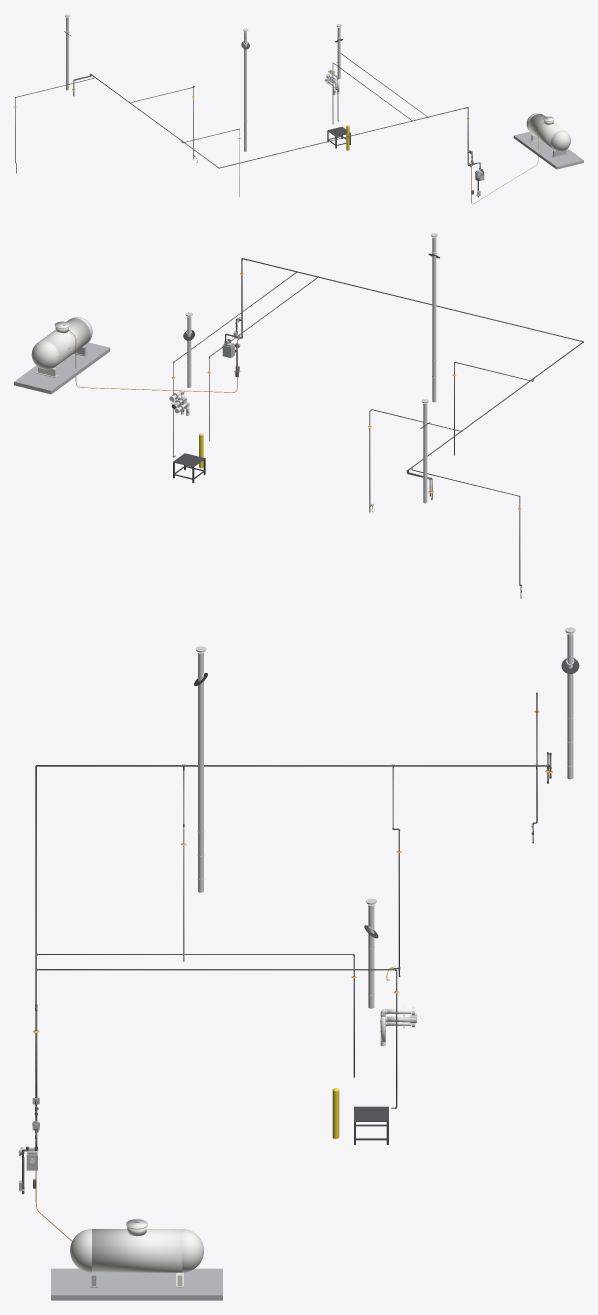
Rendered from slab_pipes_gas.glb.
3 views of the same model, one above another, from view 1: azimuth 30°, elevation 25°; view 2: azimuth 150°, elevation 25°; view 3: azimuth 270°, elevation 25° (orthographic). The views are drawn at different scales.
Visible parts, largest first — view 1: fix_propane_tank, pipe_gas_main, vent_gas_wh_flue_closet, stand_wh_garage_gas; view 2: fix_propane_tank, pipe_gas_main, vent_gas_wh_flue_closet, vent_gas_furnace_flue, stand_wh_garage_gas; view 3: fix_propane_tank, vent_gas_wh_flue_closet, pipe_gas_main, vent_gas_furnace_flue, pipe_gas_drop_wh_tankless, stand_wh_garage_gas.
Part boxes in pixels (bbox=[...]): fix_propane_tank: bbox=[513, 113, 583, 169]; pipe_gas_main: bbox=[91, 74, 463, 168]; vent_gas_wh_flue_closet: bbox=[241, 28, 249, 151]; stand_wh_garage_gas: bbox=[327, 126, 350, 148]; fix_propane_tank: bbox=[14, 317, 110, 394]; pipe_gas_main: bbox=[247, 259, 583, 469]; vent_gas_wh_flue_closet: bbox=[428, 233, 439, 402]; vent_gas_furnace_flue: bbox=[420, 399, 430, 503]; stand_wh_garage_gas: bbox=[173, 453, 205, 482]; fix_propane_tank: bbox=[51, 1219, 222, 1300]; vent_gas_wh_flue_closet: bbox=[194, 646, 207, 892]; pipe_gas_main: bbox=[35, 764, 545, 1003]; vent_gas_furnace_flue: bbox=[561, 627, 579, 779]; pipe_gas_drop_wh_tankless: bbox=[38, 969, 397, 1108]; stand_wh_garage_gas: bbox=[354, 1106, 388, 1144].
Bounding box in the file's own units: 18.07 × 7.34 × 9.78.
